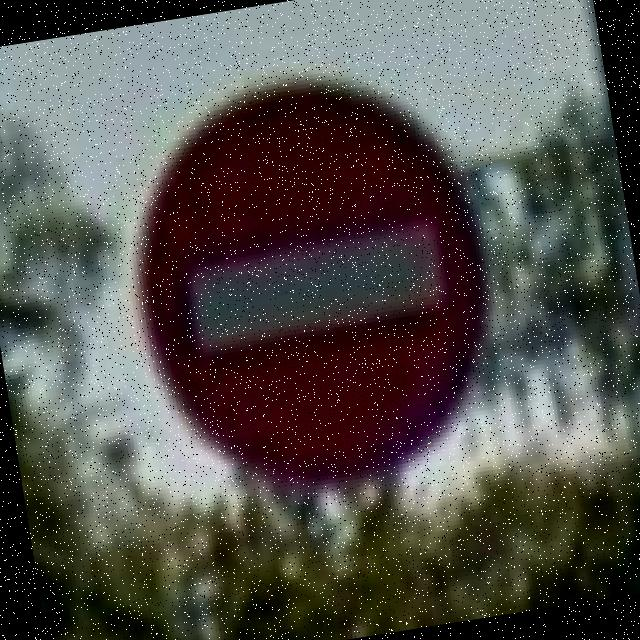Zakaz wjazdu: (108, 52, 520, 512)
